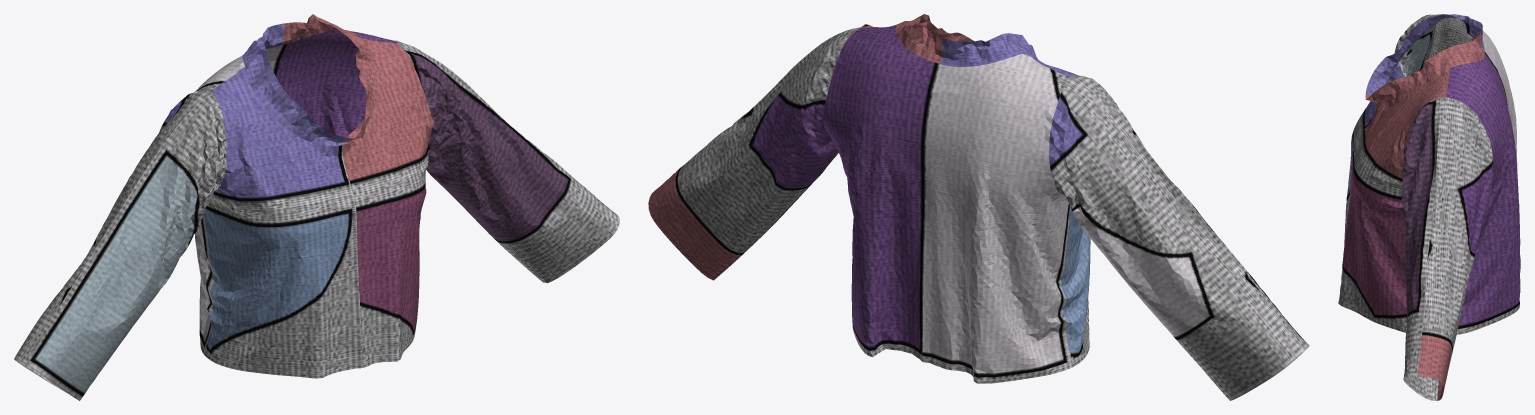
Rendered from valid_garment_upper_sim.obj.
3 renders of one model, left to right at view 1: azimuth 30°, elevation 25°; view 2: azimuth 150°, elevation 25°; view 3: azimuth 270°, elevation 25°, orthographic. The views are drawn at different scales.
Size of the model in its own units: 103 by 50.01 by 30.38.
